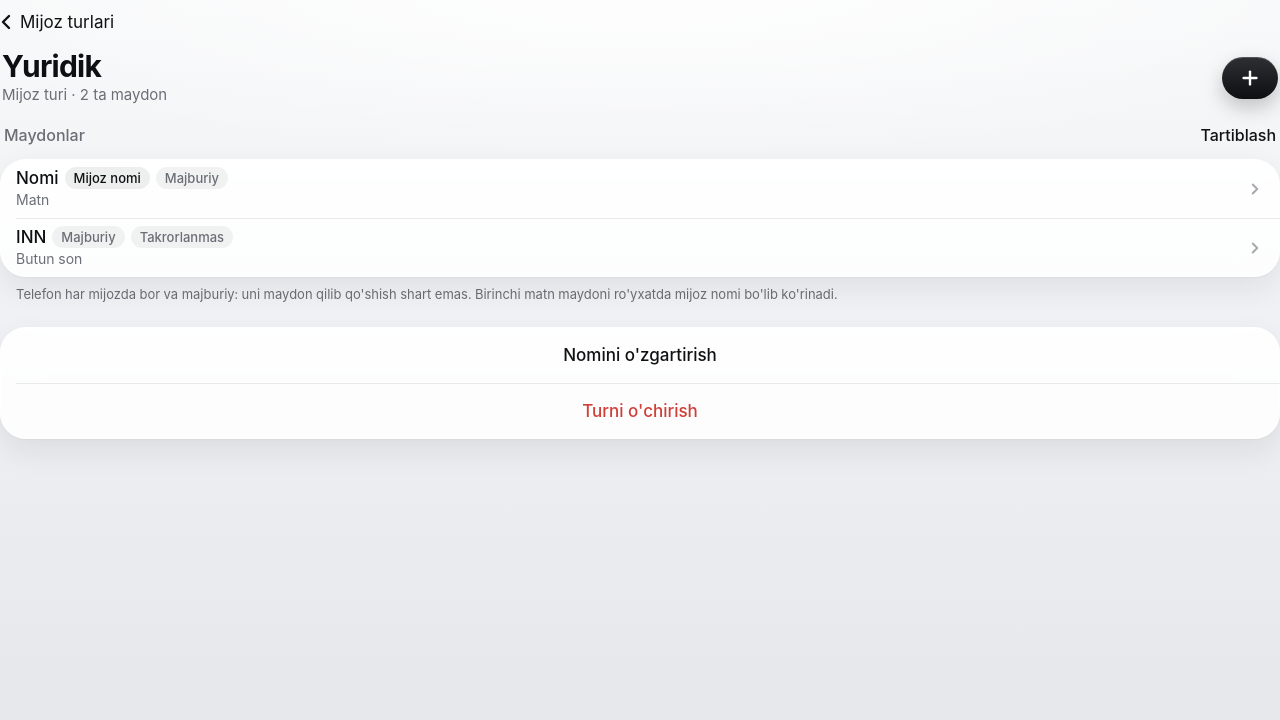
Test: a field's row opens its sheet: the name and the marks change, the kind is said and stays
This screenshot has width=1280, height=720.
Click the button "INN Majburiy Takrorlanmas Butun son" at (31, 237), box [0,218,1279,277]
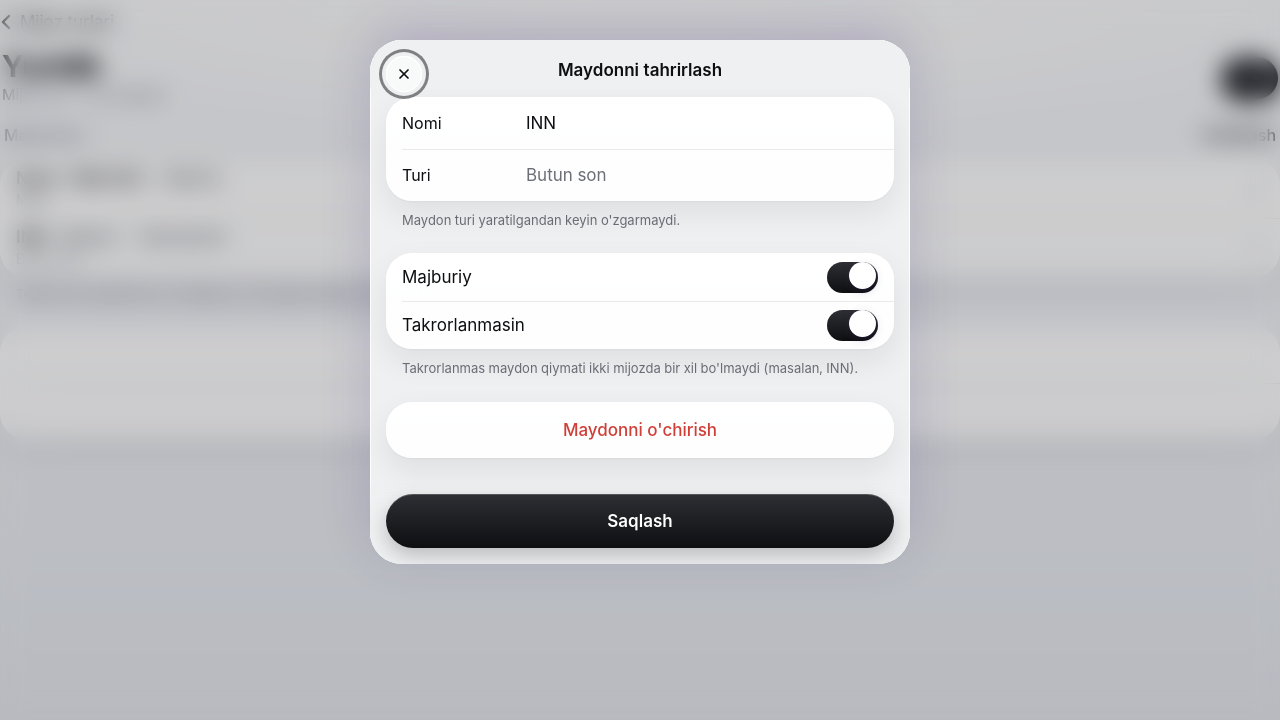
Result: the text "Butun son" is shown at [526,165,607,185]
Result: the field labelled "Nomi" holds "INN"
Result: the 1st switch named "Majburiy" is checked at [827,262,878,293]
Replace the text in the field labelled "Nomi" with "STIR" at (702, 123), box [526,101,878,145]
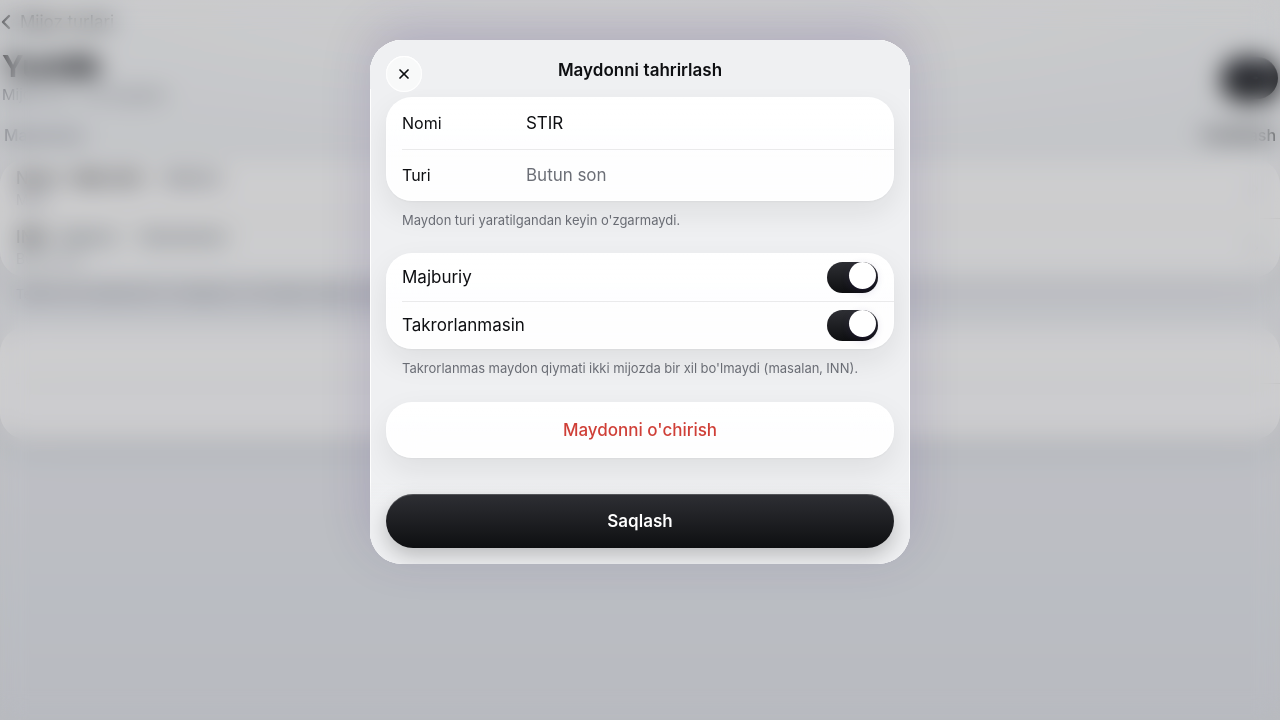
Click the switch named "Takrorlanmasin" in the row of "Takrorlanmasin" at (852, 325), box [827,310,878,341]
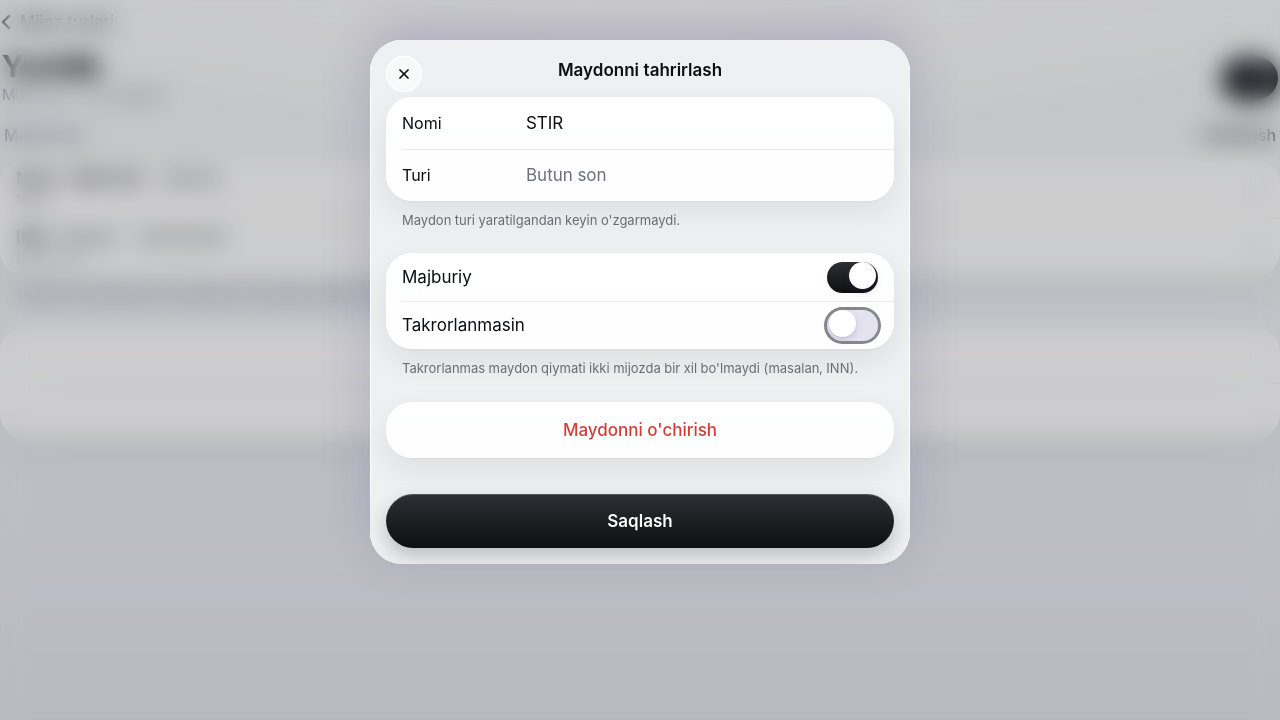
Click the button "Saqlash" at (640, 521), box [386,494,894,548]
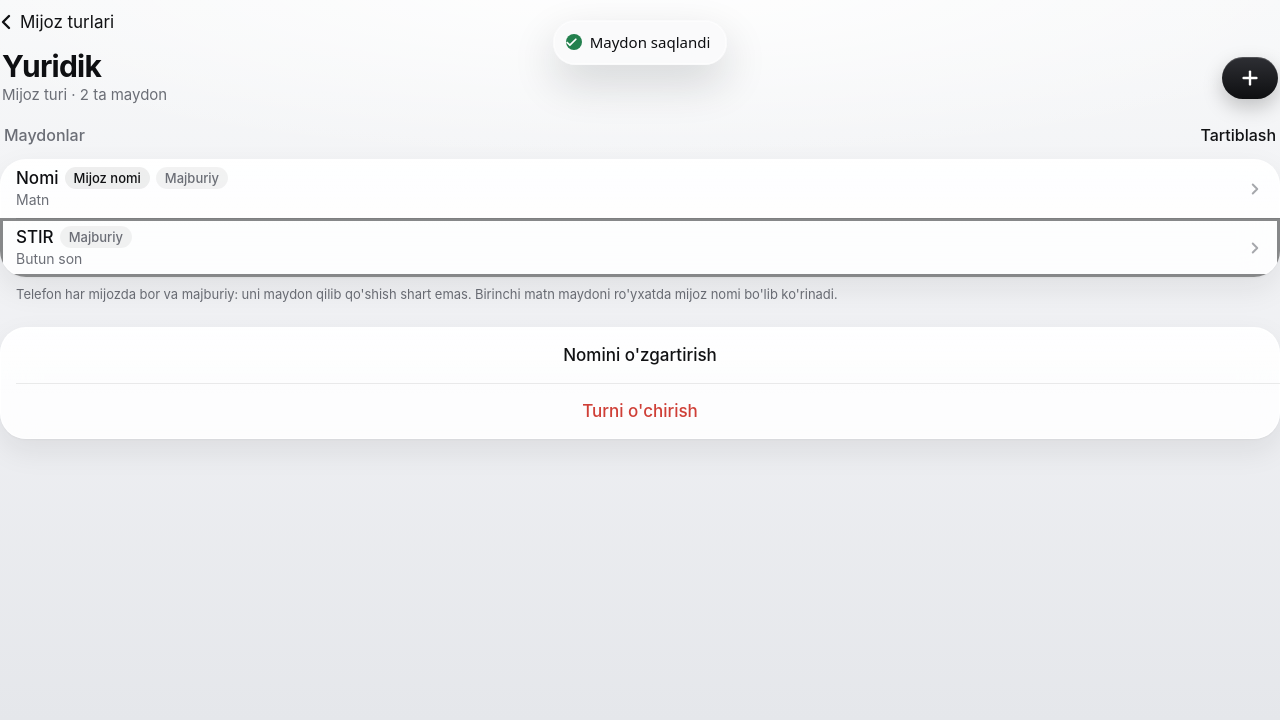
Result: the dialog is gone
Result: the text "Maydon saqlandi" is shown at [590,31,710,54]
